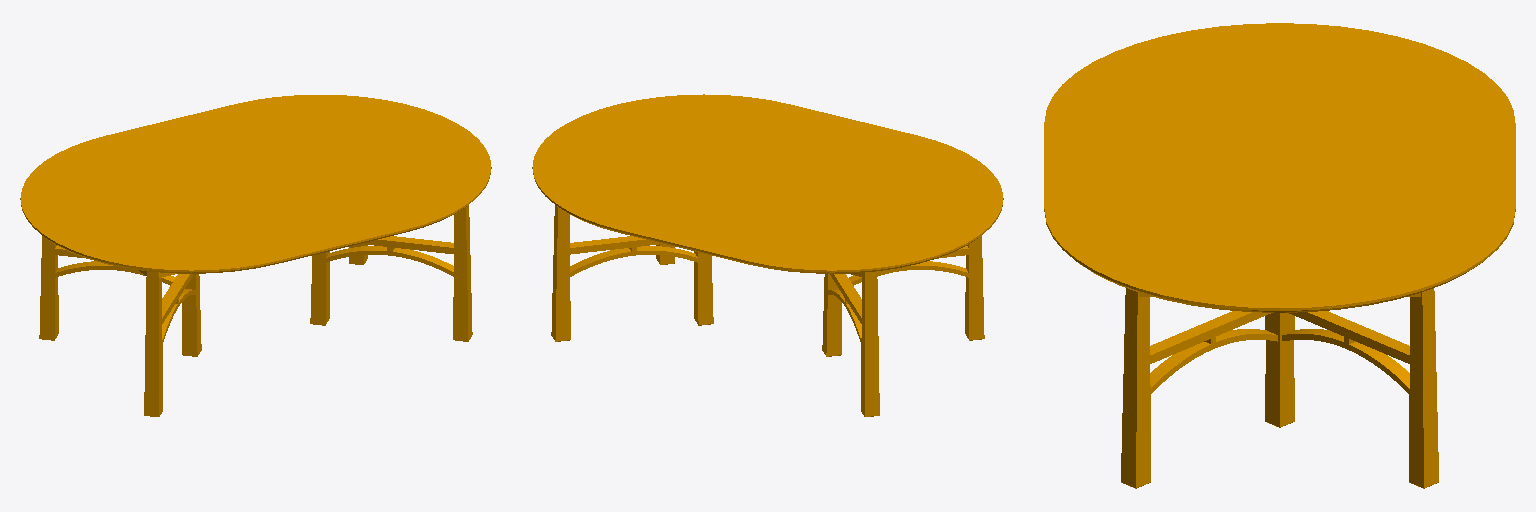
robot.urdf — dining_table_05:
<?xml version="1.0" ?>
<robot name="dining_table_05">
  <link name="baseLink">
    <contact>
      <lateral_friction value="1.0"/>
      <inertia_scaling value="3.0"/>
    </contact>
    <inertial>
      <origin rpy="0 0 0" xyz="-0.000 0.000 -0.174"/>
       <mass value=".1"/>
       <inertia ixx="1" ixy="0.0" ixz="0.0" iyy="1" iyz="0.0" izz="1"/>
    </inertial>
    <visual>
      <origin rpy="0 0 0" xyz="0 0 0"/>
      <geometry>
        <mesh filename="visual.obj" scale="1.000 1.000 1.000"/>
      </geometry>
      <material name="texture_material">
            <texture filename="texture.png"/>
      </material>
    </visual>
    <collision>
      <origin rpy="0 0 0" xyz="0 0 0"/>
      <geometry>
        <mesh filename="visual.obj" scale="1.000 1.000 1.000"/>
      </geometry>
    </collision>
  </link>
</robot>
        

--- Facts derived from the render (not from the file) ---
Views: 3 orthographic renders of the robot side by side, from view 1: azimuth 30°, elevation 25°; view 2: azimuth 150°, elevation 25°; view 3: azimuth 270°, elevation 25°.
Robot: dining_table_05 — 1 links, 0 joints (none); root link baseLink; default pose: every joint at zero.
Links seen in each view (by area): view 1: baseLink; view 2: baseLink; view 3: baseLink.
Link boxes in pixels (x1=…): baseLink: x1=20, y1=95, x2=491, y2=416; baseLink: x1=532, y1=94, x2=1003, y2=416; baseLink: x1=1044, y1=23, x2=1515, y2=488.
Bounding box of the posed robot: 1 × 0.6977 × 0.349 m (x, y, z).
Meshes: 1 distinct files referenced, 1 mesh visuals loaded (1 OBJ).
